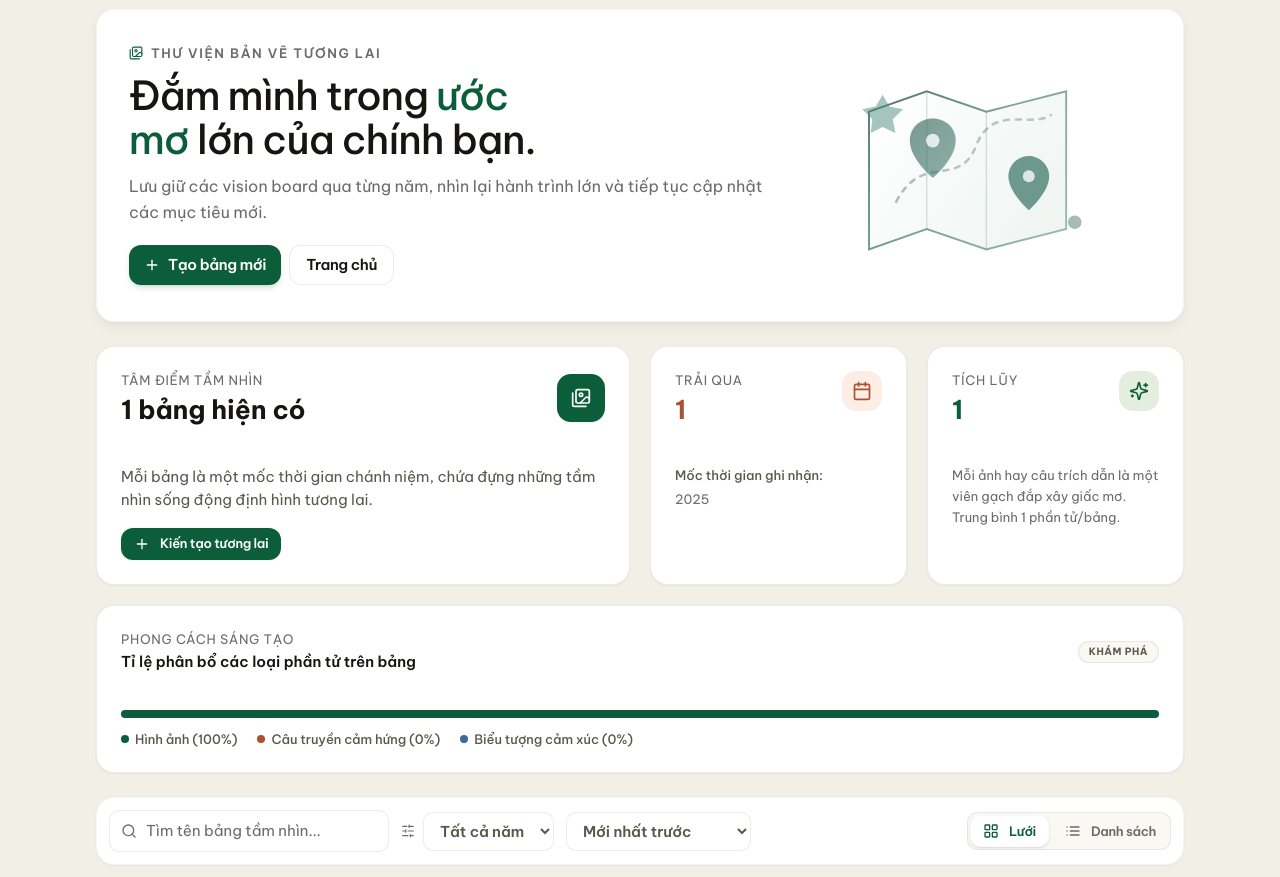
Test: VisionBoardGallery — tái sử dụng component dùng chung (Req 6.1–6.4) › lọc không có kết quả render EmptyState 'không tìm thấy' (Req 6.2)
Type "zzz-khong-khop" into the field named "Tìm bảng tầm nhìn theo tên" at (249, 831), box [109,810,389,852]
(page scrolled)
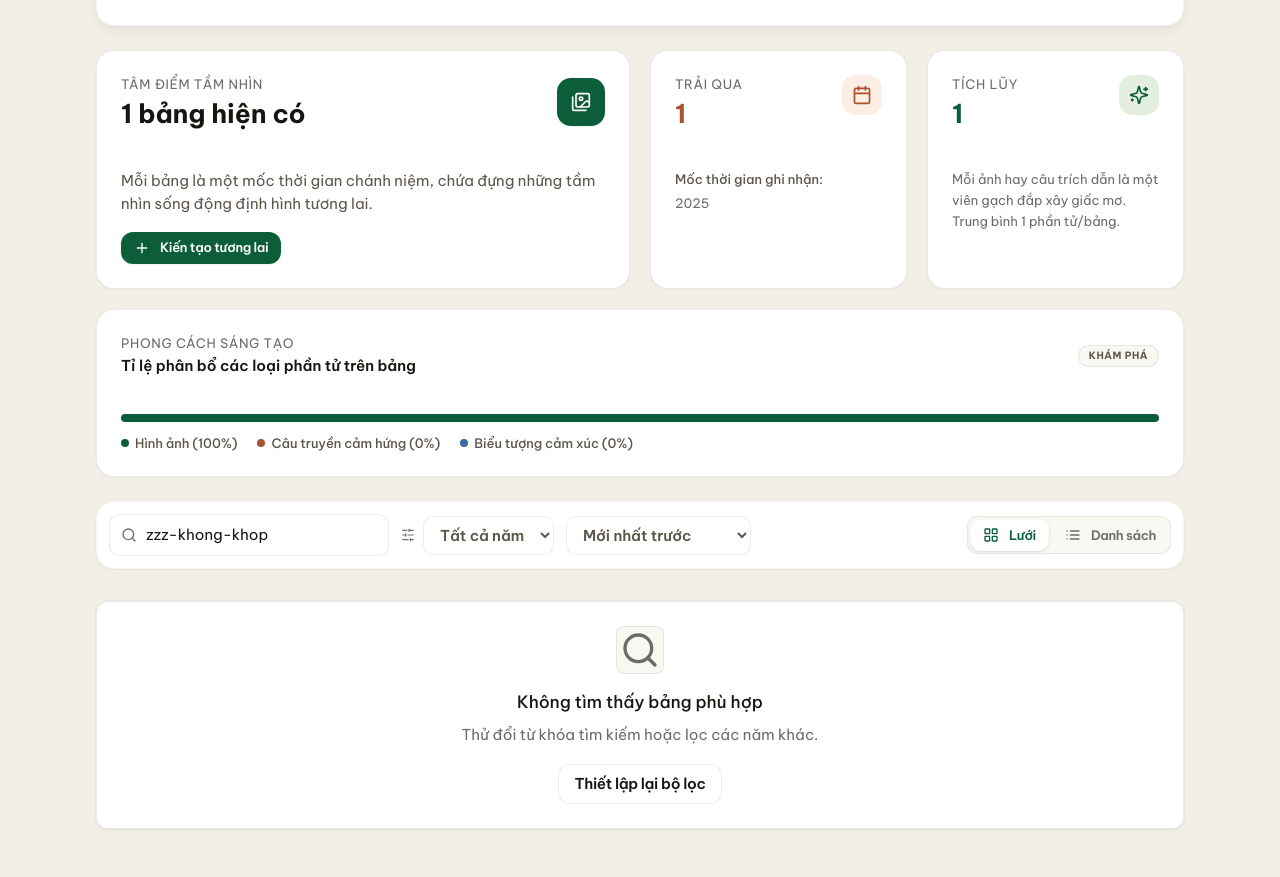
Expected: the heading "Không tìm thấy bảng phù hợp" is shown, [517,691,763,713]
